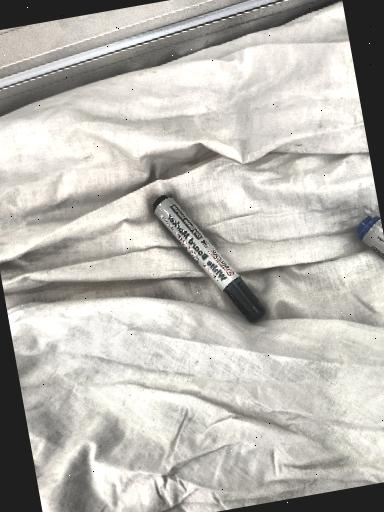marcador negro: (153, 195, 266, 323)
